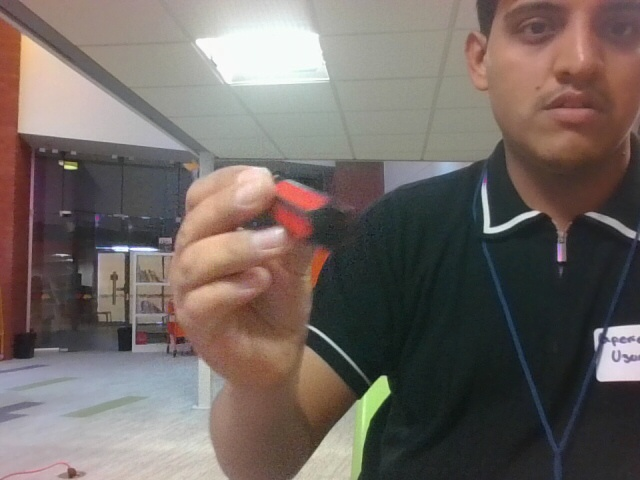destornillador: (239, 180, 353, 255)
